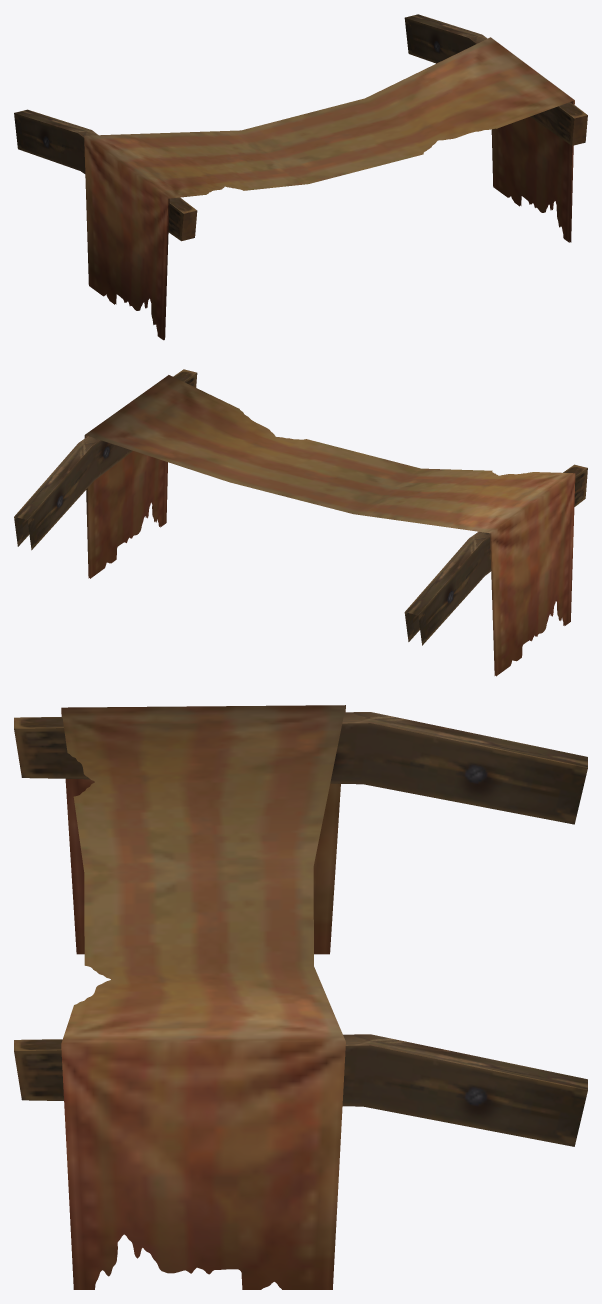
Rendered from building_yewai_yupeng.FBX.
3 views of the same model, one above another, from view 1: azimuth 30°, elevation 25°; view 2: azimuth 150°, elevation 25°; view 3: azimuth 270°, elevation 25° (orthographic). The views are drawn at different scales.
Parts seen in each view (by area): view 1: building_yewai_yupeng; view 2: building_yewai_yupeng; view 3: building_yewai_yupeng.
Part boxes in pixels (<box>): building_yewai_yupeng: <box>14,14,587,340</box>; building_yewai_yupeng: <box>14,369,587,676</box>; building_yewai_yupeng: <box>14,705,587,1289</box>.
Size of the model in its own units: 4.21 by 1.46 by 3.05.
